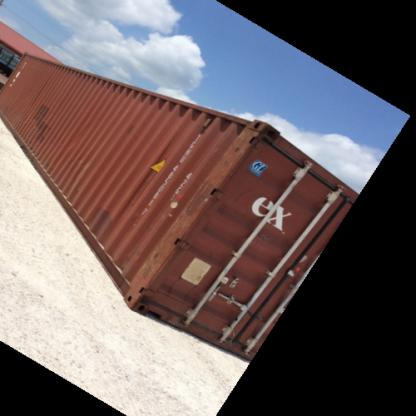Damage: (131, 202, 204, 286), (195, 124, 262, 202)
